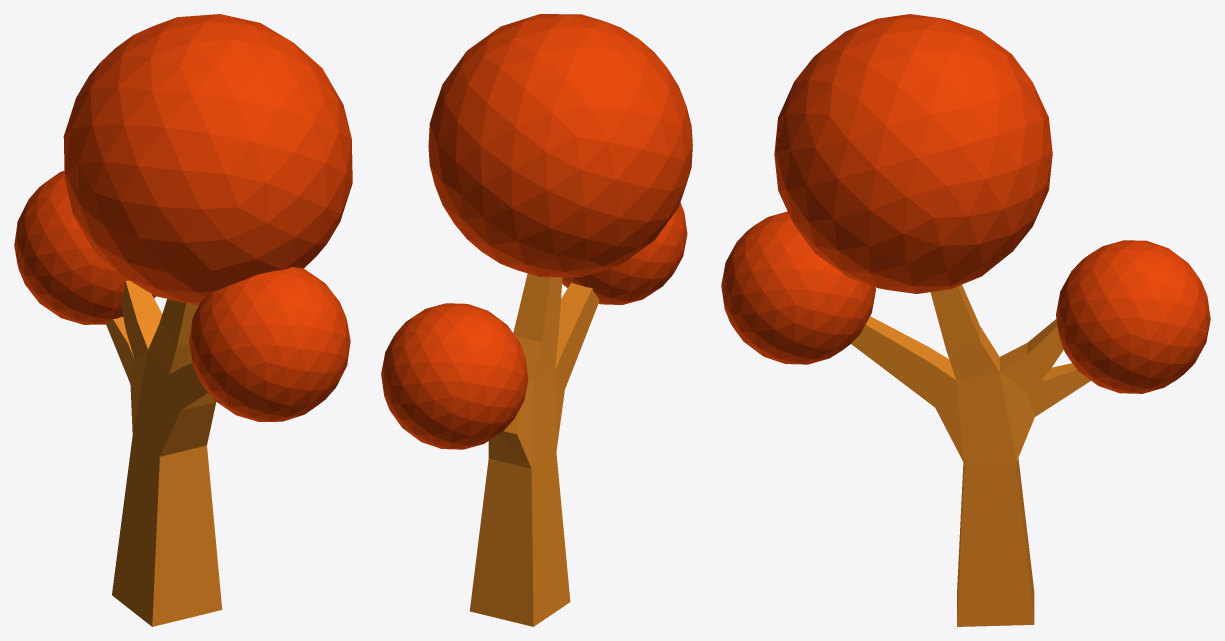
The model's file is SweerTrees3.fbx.
3 views of the same model, side by side, from view 1: azimuth 30°, elevation 25°; view 2: azimuth 150°, elevation 25°; view 3: azimuth 270°, elevation 25° (orthographic). The views are drawn at different scales.
Parts seen in each view (by area): view 1: Icosphere.002, Cube.001, Icosphere.003, Icosphere.001; view 2: Icosphere.002, Cube.001, Icosphere.001, Icosphere.003; view 3: Icosphere.002, Cube.001, Icosphere.001, Icosphere.003.
Boxes of the visible parts, <box> form: Icosphere.002: <box>63,14,352,305</box>; Cube.001: <box>106,280,222,626</box>; Icosphere.003: <box>189,267,350,421</box>; Icosphere.001: <box>14,170,155,324</box>; Icosphere.002: <box>428,14,692,277</box>; Cube.001: <box>470,273,599,626</box>; Icosphere.001: <box>381,303,528,449</box>; Icosphere.003: <box>562,202,687,304</box>; Icosphere.002: <box>774,14,1052,293</box>; Cube.001: <box>851,284,1090,626</box>; Icosphere.001: <box>1056,240,1210,393</box>; Icosphere.003: <box>721,211,875,364</box>.
Size of the model in its own units: 1.51 by 3.48 by 2.65.
